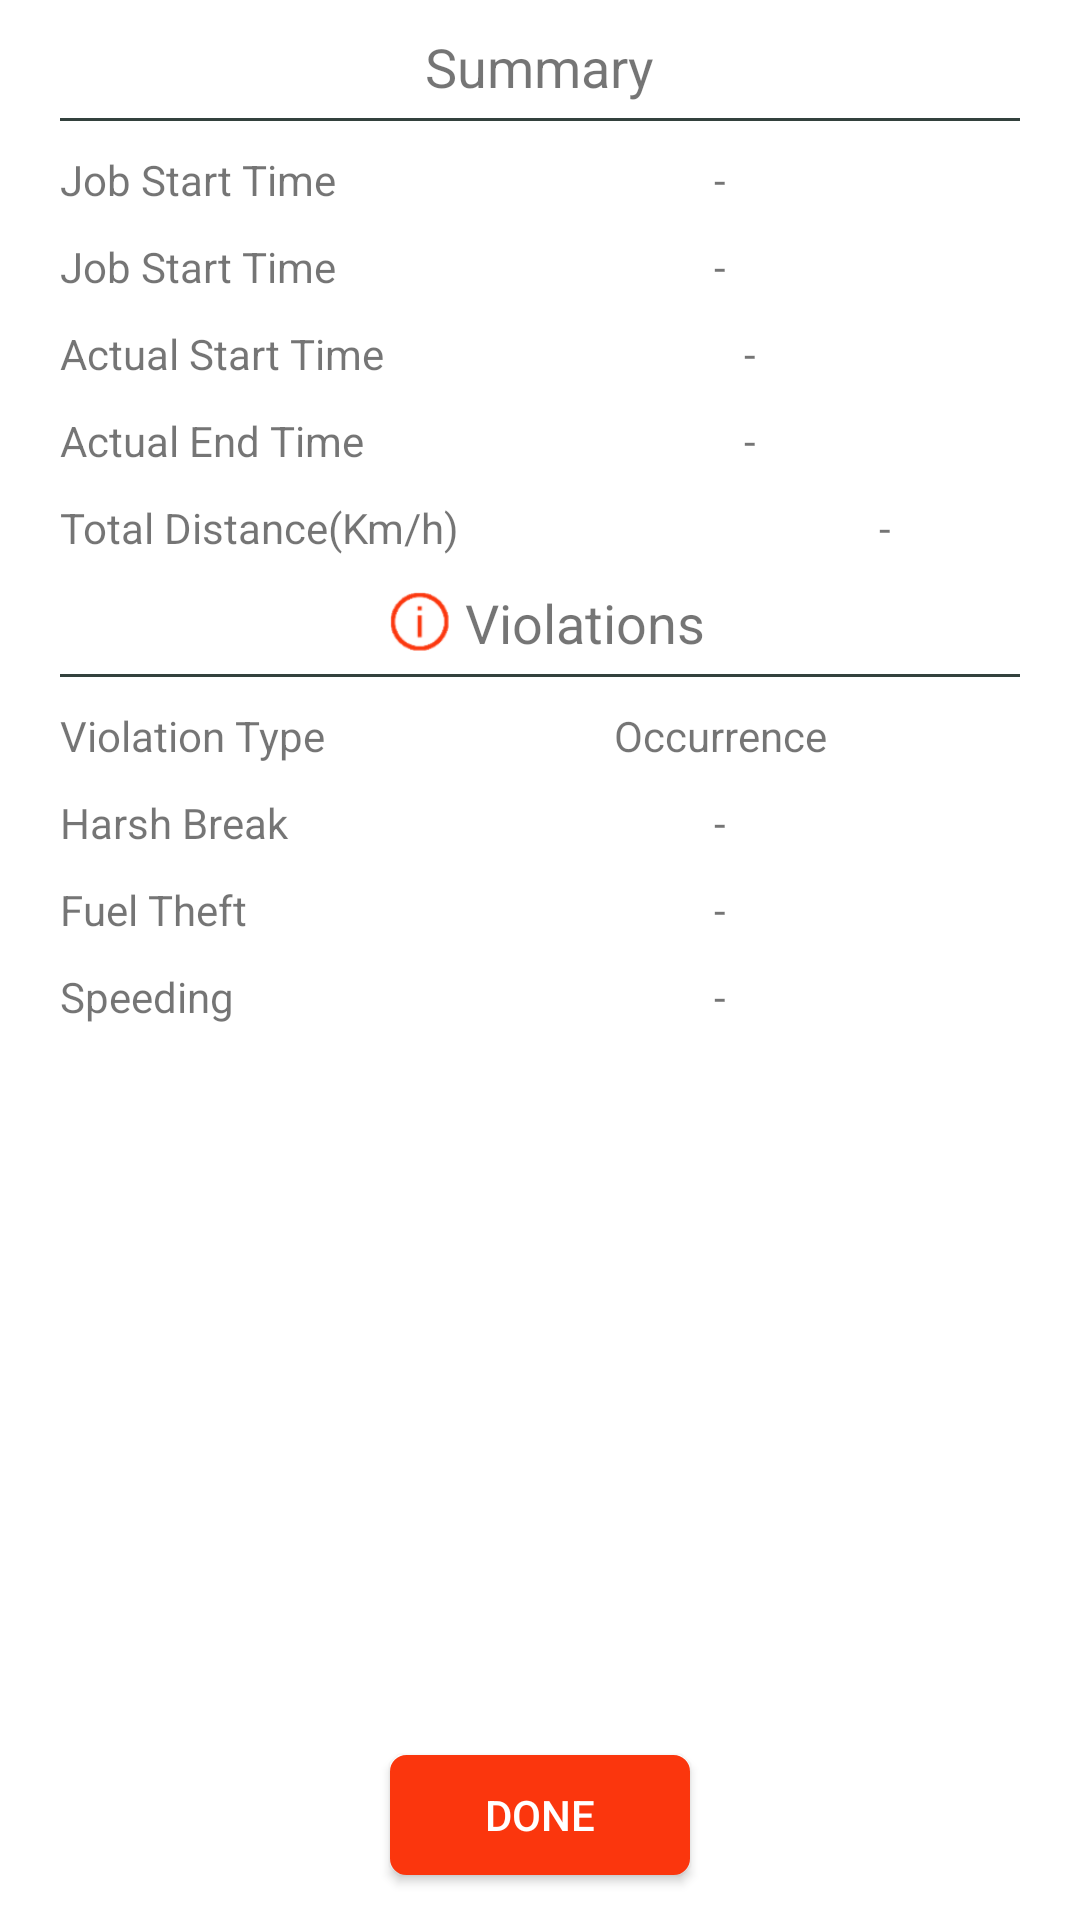

Icons on this 1080x1920 Android screen, each with its box as bbox(x1, y1, x2, y2):
info: bbox(390, 592, 449, 651)
